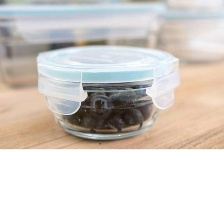plastic_box: (29, 38, 188, 146)
